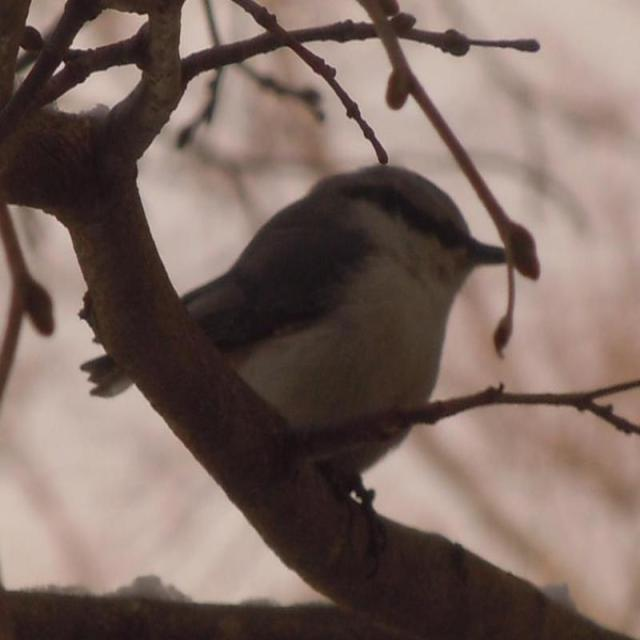bird: (83, 164, 523, 543)
